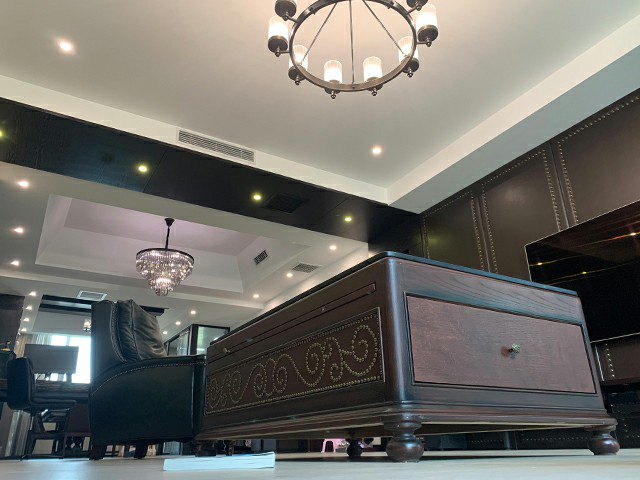book: (162, 449, 276, 470)
sofa: (87, 299, 205, 464)
stool: (5, 356, 76, 460)
table: (198, 250, 624, 463)
